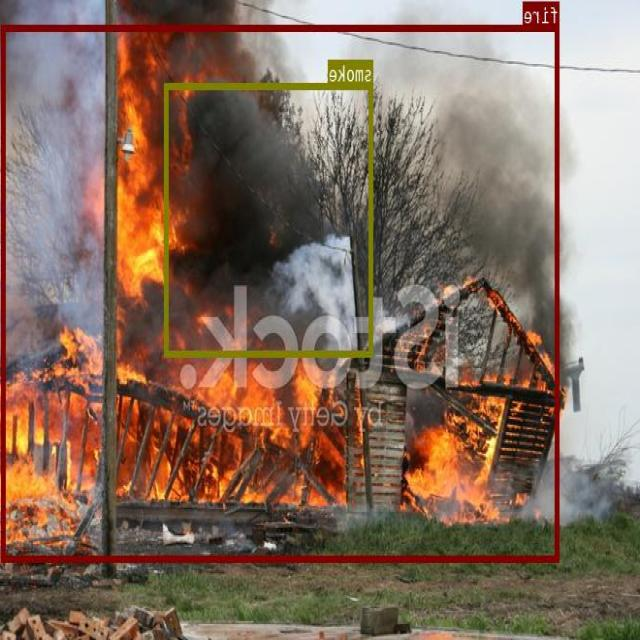fire: (3, 23, 560, 560)
smoke: (165, 83, 374, 356)
